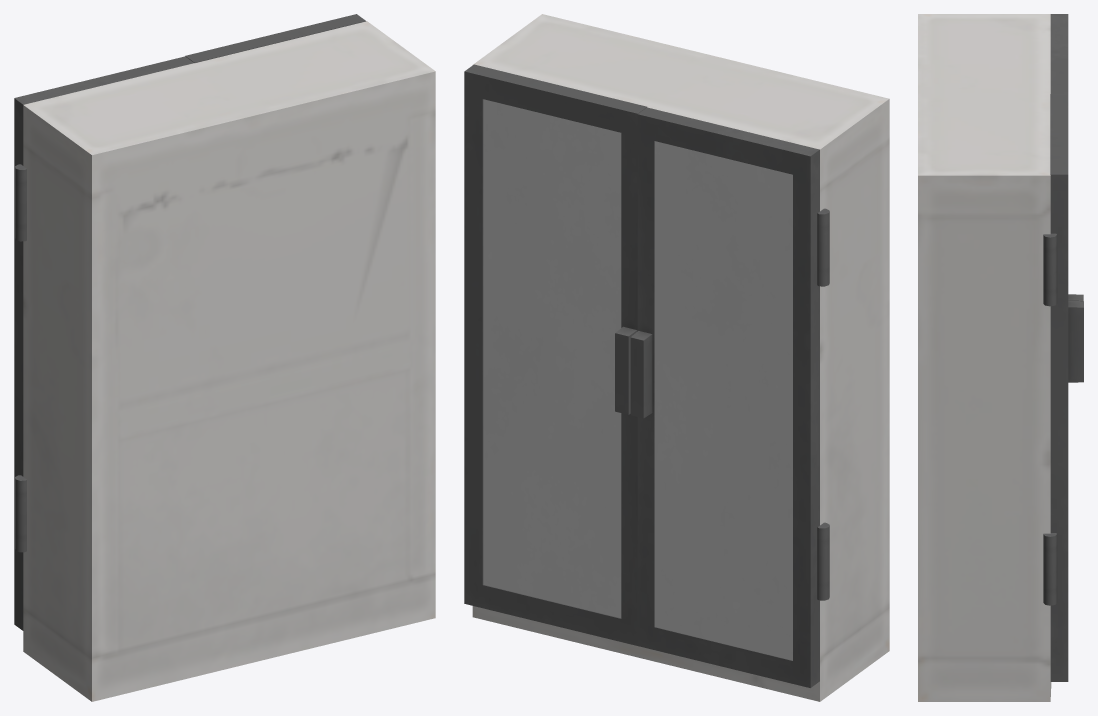
Rendered from Pfb_Indoors_Study_Shelf_JLAB04__8.fbx.
The picture shows the model from 3 angles, left to right: view 1: azimuth 30°, elevation 25°; view 2: azimuth 150°, elevation 25°; view 3: azimuth 270°, elevation 25°; orthographic projection. The views are drawn at different scales.
Visible parts, largest first — view 1: Mat_Indoors_Study_01_2, MAT_Shop_Refridge_01_3 2; view 2: Mat_Tile_Metal_01 12, Mat_Indoors_Study_01_2, MAT_Shop_Refridge_01_3 2; view 3: Mat_Indoors_Study_01_2, MAT_Shop_Refridge_01_3 2.
Part boxes in pixels (x1,y1,x2,y2): Mat_Indoors_Study_01_2: [23, 21, 435, 701]; MAT_Shop_Refridge_01_3 2: [14, 14, 365, 630]; Mat_Tile_Metal_01 12: [483, 99, 792, 660]; Mat_Indoors_Study_01_2: [472, 14, 889, 701]; MAT_Shop_Refridge_01_3 2: [464, 64, 829, 687]; Mat_Indoors_Study_01_2: [918, 14, 1051, 701]; MAT_Shop_Refridge_01_3 2: [1043, 14, 1083, 681].
Size of the model in its own units: 1.84 by 2.69 by 0.7657.
Materials: 3 (3 with a texture image).
